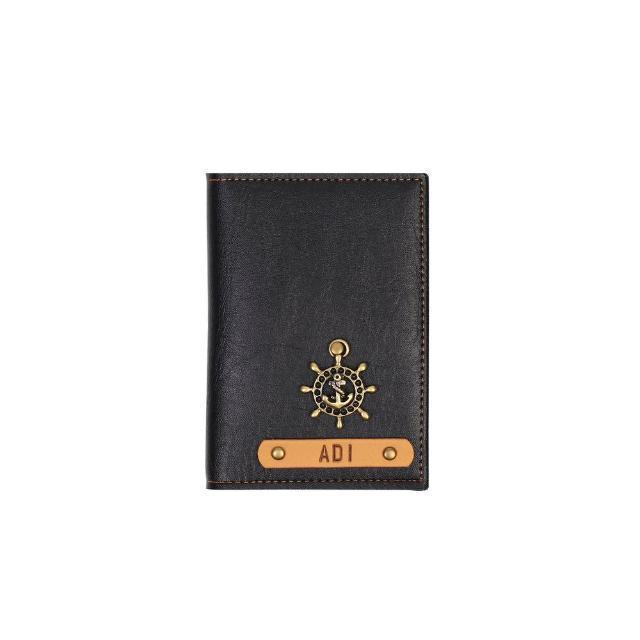wallet: (199, 162, 435, 498)
